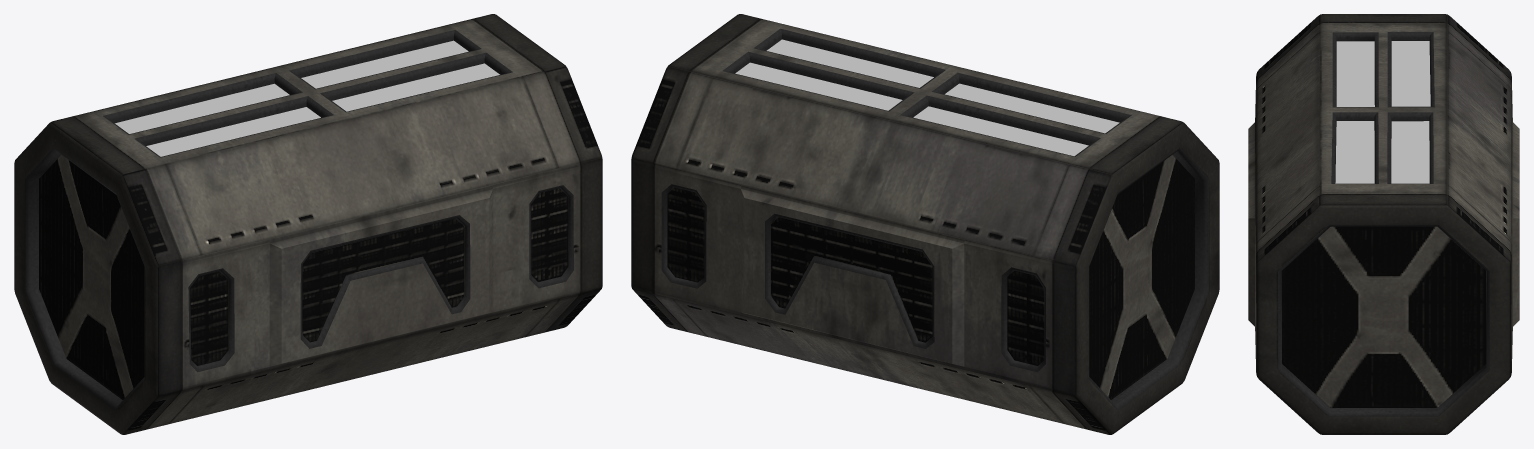
The model's file is machinery_1.fbx.
3 views of the same model, side by side, from view 1: azimuth 30°, elevation 25°; view 2: azimuth 150°, elevation 25°; view 3: azimuth 270°, elevation 25° (orthographic). The views are drawn at different scales.
Visible parts, largest first — view 1: machinery_1; view 2: machinery_1; view 3: machinery_1.
Boxes of the visible parts, bbox=[...] form: machinery_1: bbox=[14, 14, 602, 434]; machinery_1: bbox=[631, 14, 1219, 434]; machinery_1: bbox=[1248, 14, 1519, 434].
Size of the model in its own units: 1.14 by 0.68 by 0.64.
